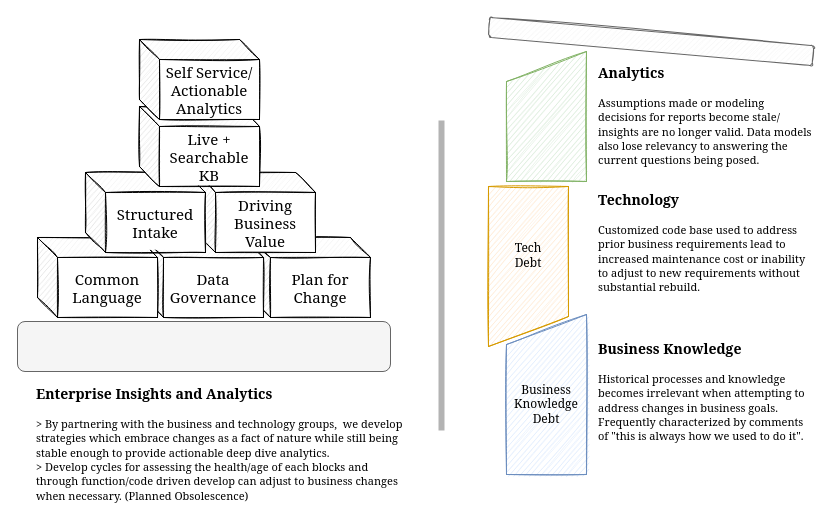
Some shapes in this 835 by 532 pixel diagram are drawn without their labels. Here are the shapes that lost their labels. From the top down, the box of each, then its label:
(487, 16, 814, 66): Built on Unstable Foundations
(506, 50, 586, 182): Analytics Debt
(16, 320, 390, 372): Stable and Adaptable Building Blocks
